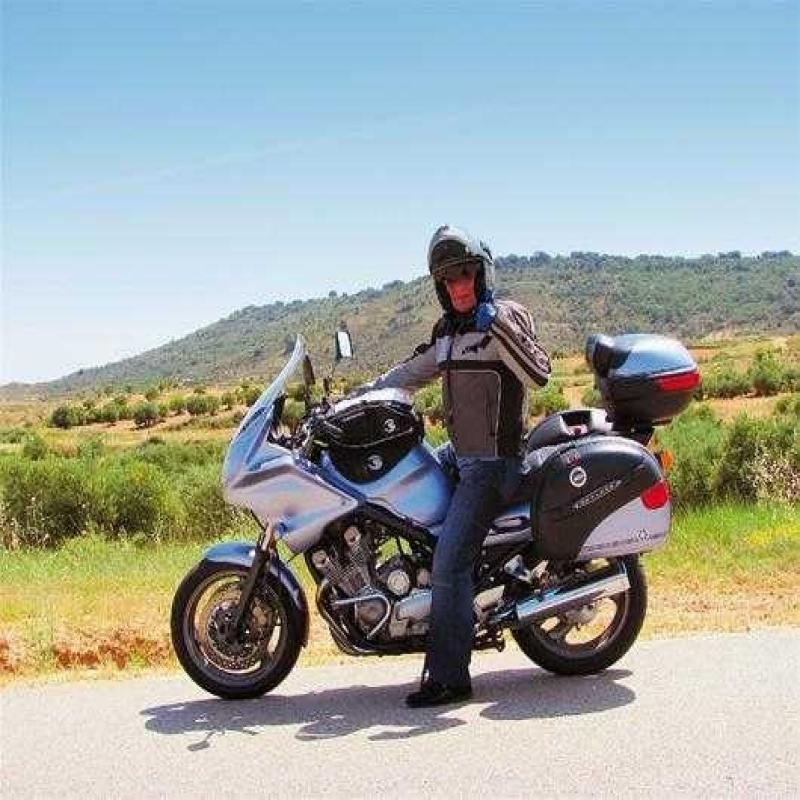bike: (170, 323, 706, 709)
